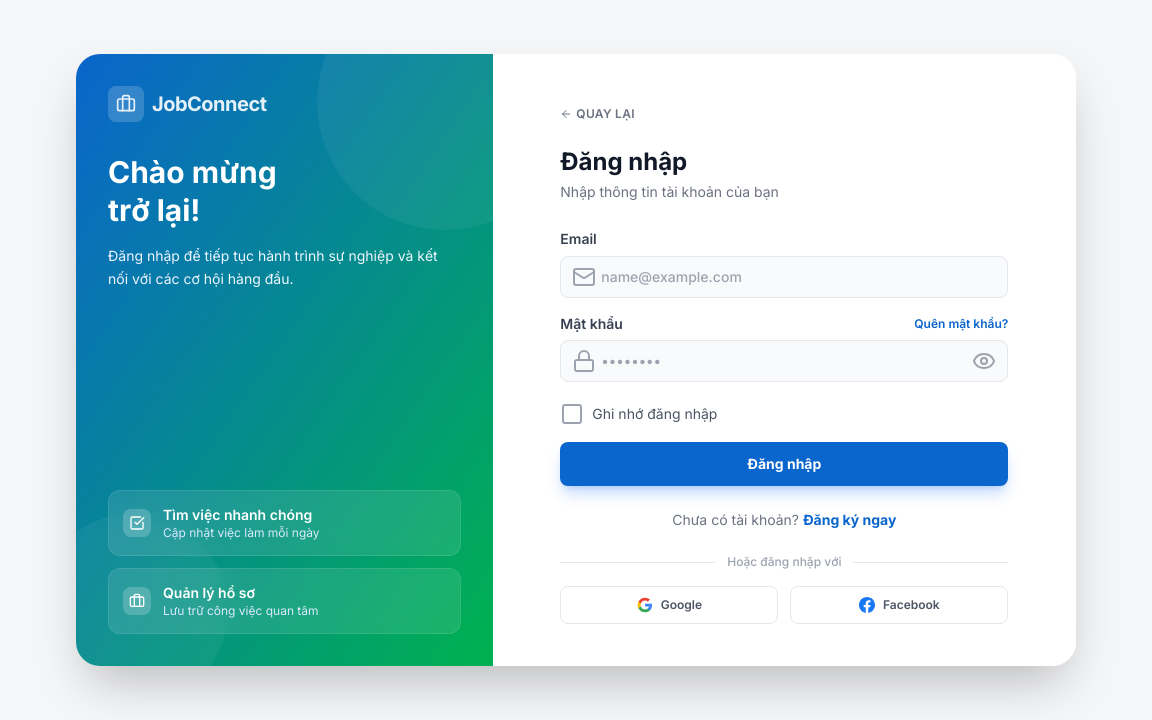
Login page › shows exact backend message when login fails with response payload
Type "dev@example.com" into the field labelled "Email" at (784, 277), box [560, 256, 1008, 298]
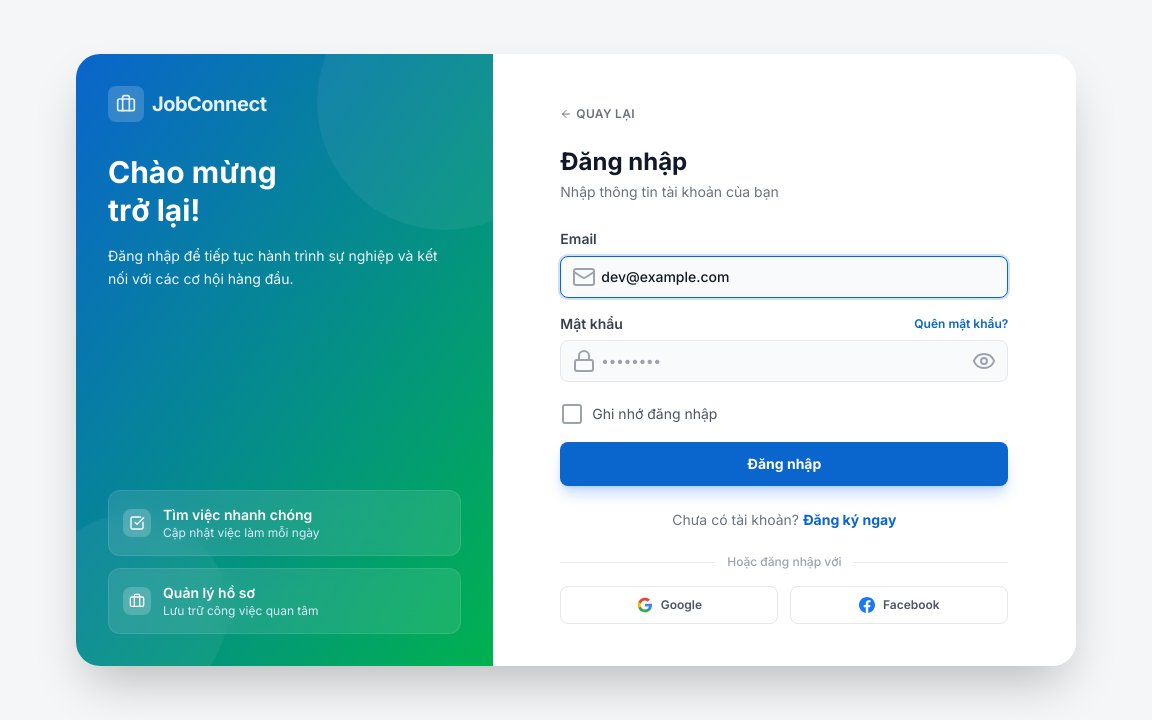
Type "wrong" into the password field labelled "Mật khẩu" at (784, 361), box [560, 340, 1008, 382]
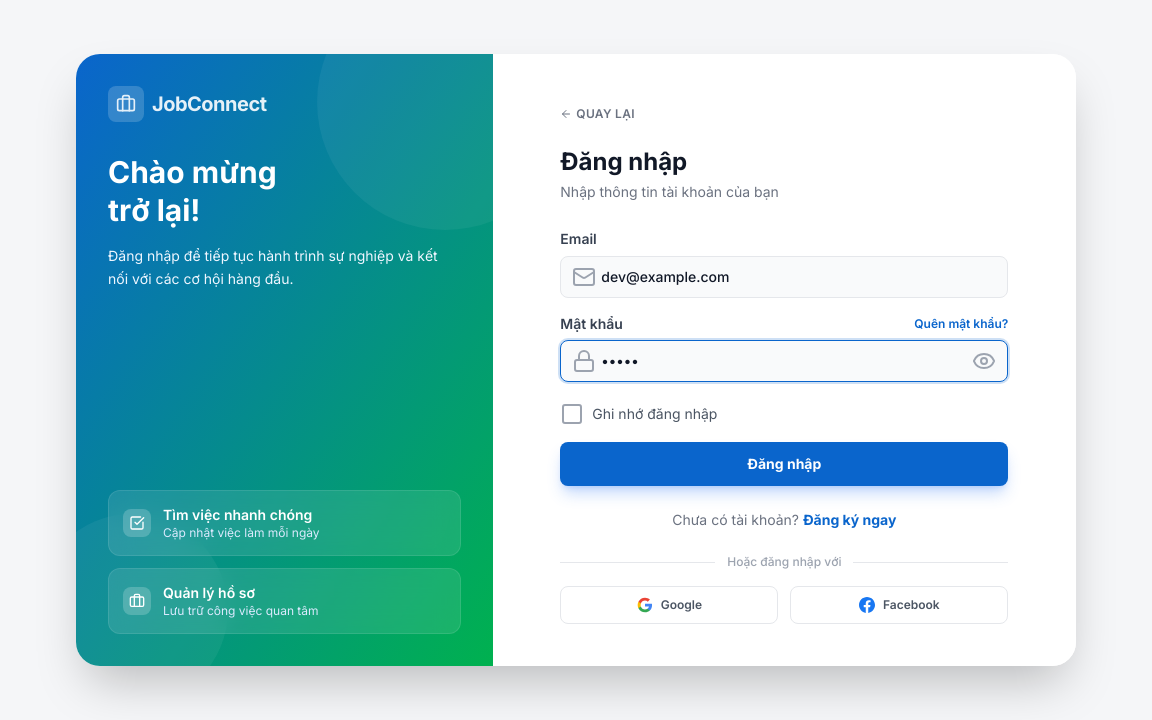
Click the button "Đăng nhập" at (784, 464), box [560, 442, 1008, 486]
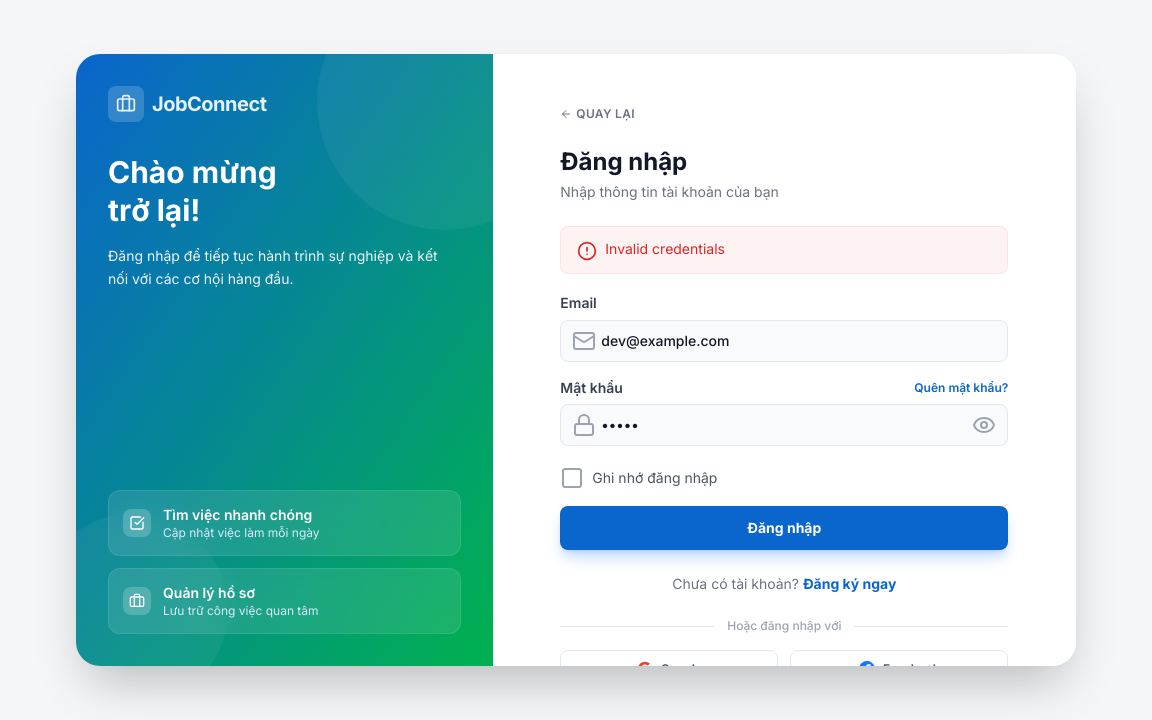
Expected: the text "Invalid credentials" is shown, [605, 239, 725, 259]
